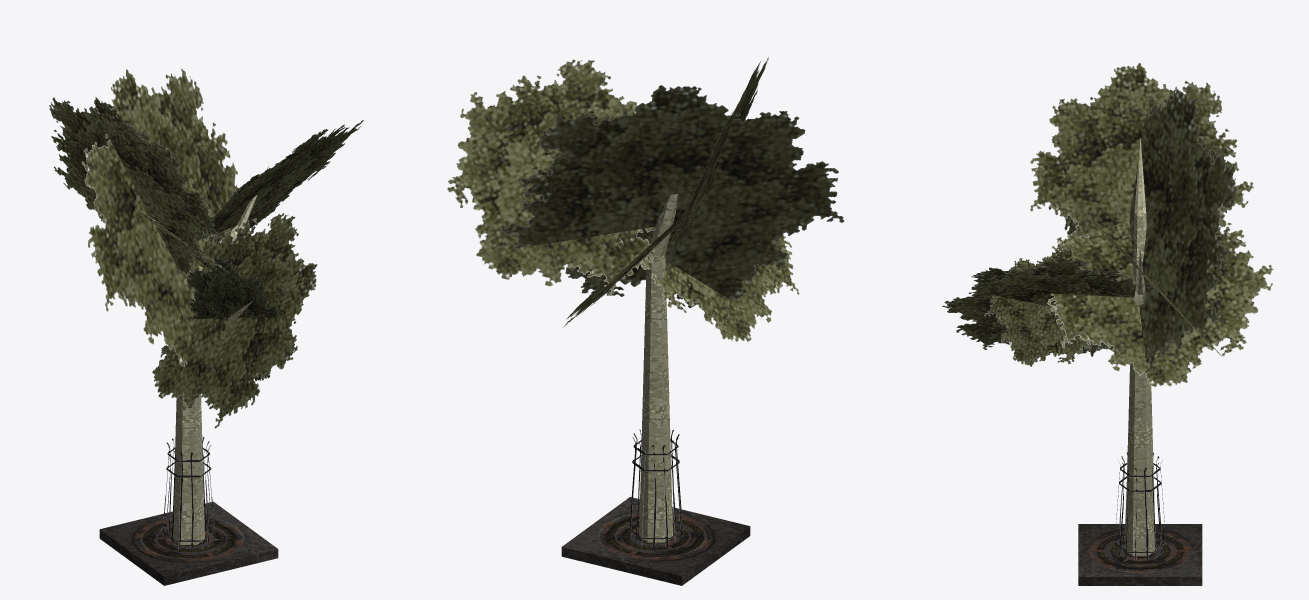
File: lowpolyTree.fbx
3 views of the same model, side by side, from view 1: azimuth 30°, elevation 25°; view 2: azimuth 150°, elevation 25°; view 3: azimuth 270°, elevation 25° (orthographic). The views are drawn at different scales.
Parts seen in each view (by area): view 1: lowpoly_Tree.leaves, lowpoly_Tree.Base, lowpoly_Tree, lowpoly_Tree.002; view 2: lowpoly_Tree.leaves, lowpoly_Tree.Base, lowpoly_Tree, lowpoly_Tree.002; view 3: lowpoly_Tree.leaves, lowpoly_Tree.Base, lowpoly_Tree, lowpoly_Tree.002.
Part boxes in pixels (<box>): lowpoly_Tree.leaves: <box>49,68,364,428</box>; lowpoly_Tree.Base: <box>99,501,278,585</box>; lowpoly_Tree: <box>118,155,268,544</box>; lowpoly_Tree.002: <box>161,437,215,549</box>; lowpoly_Tree.leaves: <box>447,57,844,341</box>; lowpoly_Tree.Base: <box>561,497,750,585</box>; lowpoly_Tree: <box>639,193,677,542</box>; lowpoly_Tree.002: <box>627,429,684,547</box>; lowpoly_Tree.leaves: <box>942,63,1273,386</box>; lowpoly_Tree.Base: <box>1078,524,1202,585</box>; lowpoly_Tree: <box>1048,137,1155,556</box>; lowpoly_Tree.002: <box>1114,452,1166,560</box>.
Size of the model in its own units: 450 by 626 by 400.
